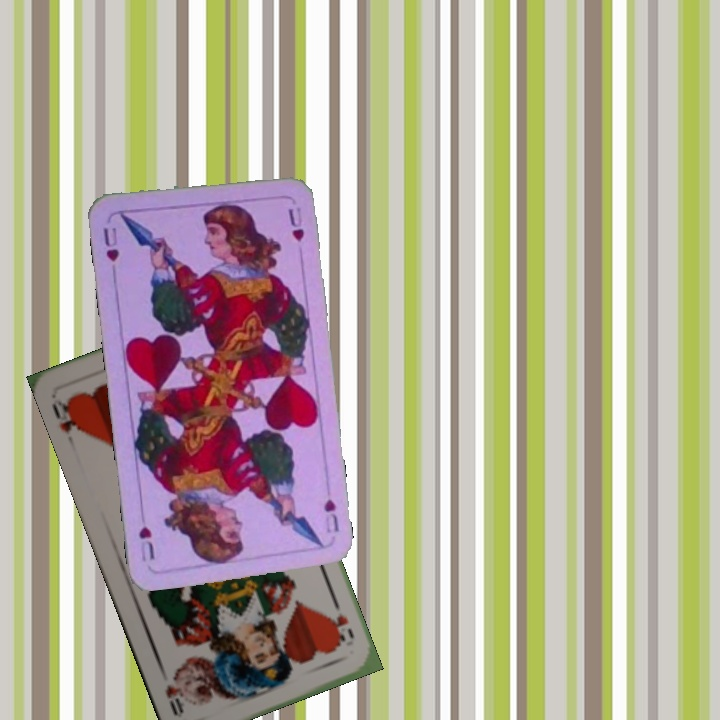HO: (47, 395, 85, 449), (326, 595, 357, 648)
HU: (99, 223, 122, 264), (320, 495, 342, 536)
